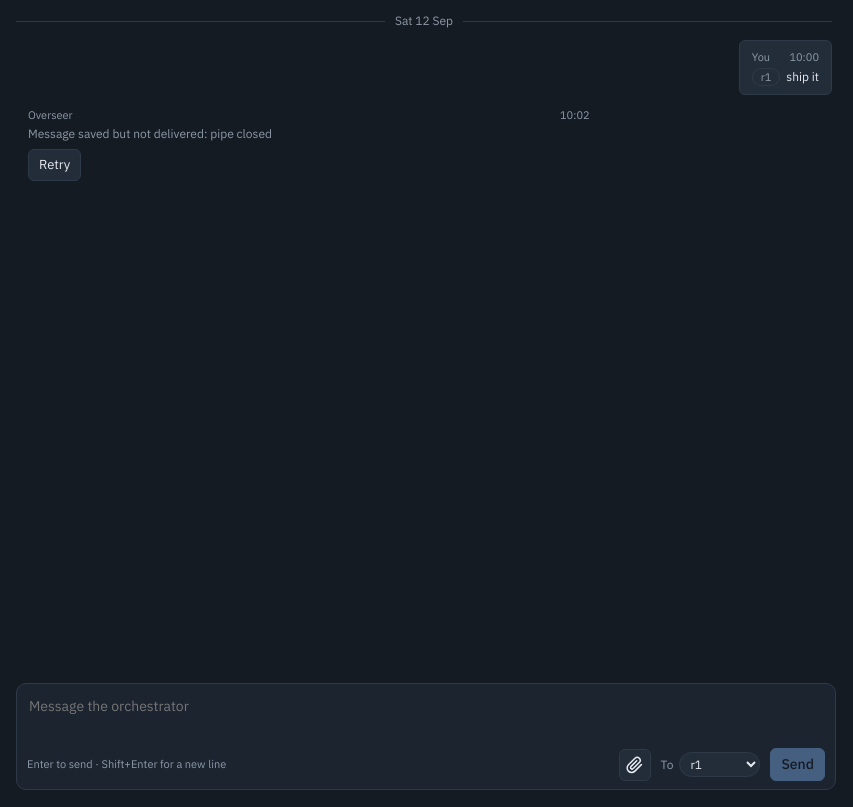
Test: Chat › Retry on an undelivered message › keeps Retry available when the request itself fails
Click the button "Retry" at (55, 165), box [28,149,81,180]
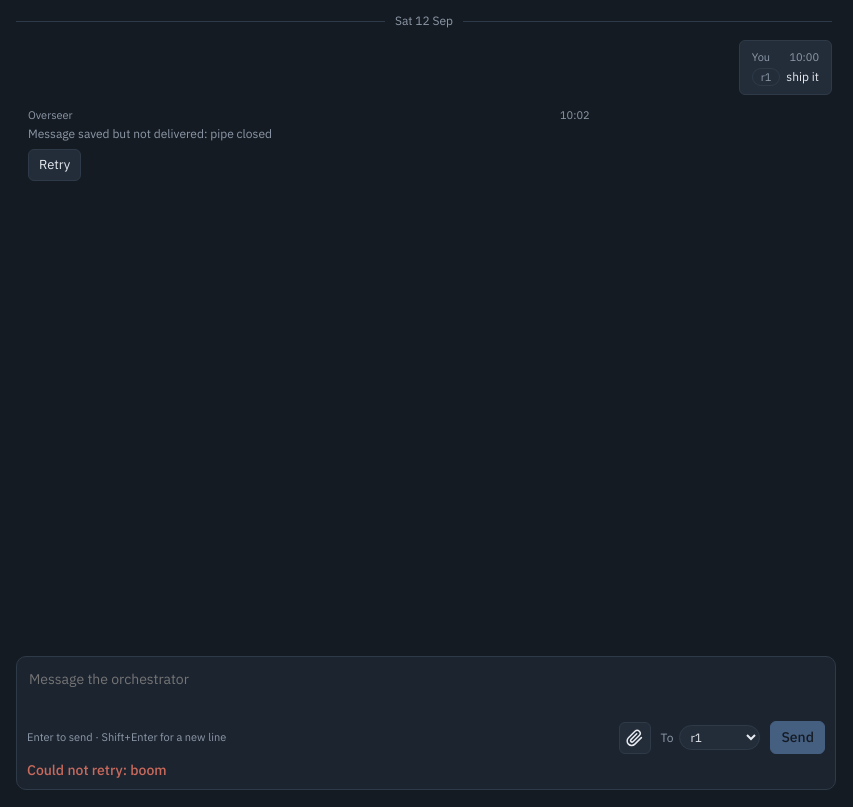
expect the text "Could not retry: boom" is shown: met, box [27,761,167,779]
